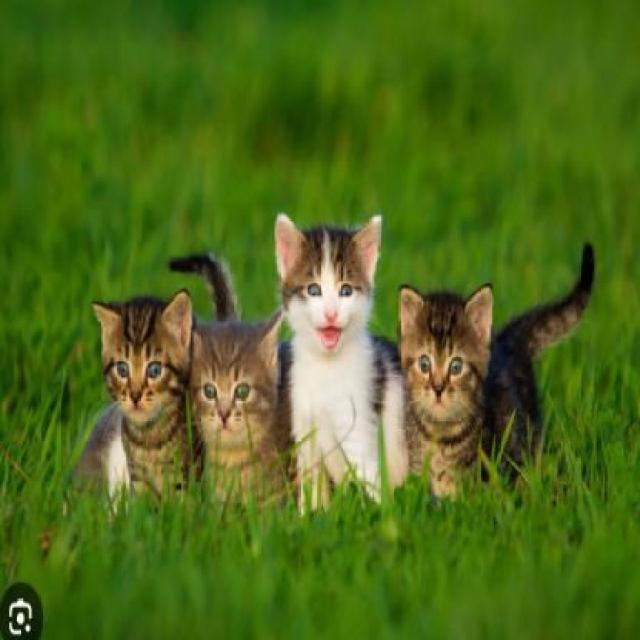cat: (400, 278, 558, 476), (290, 220, 381, 512), (198, 323, 288, 502), (105, 294, 183, 497)
